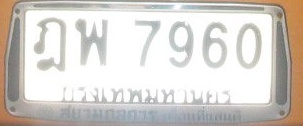txt11: (32, 16, 67, 74)
txt25: (73, 17, 110, 69)
